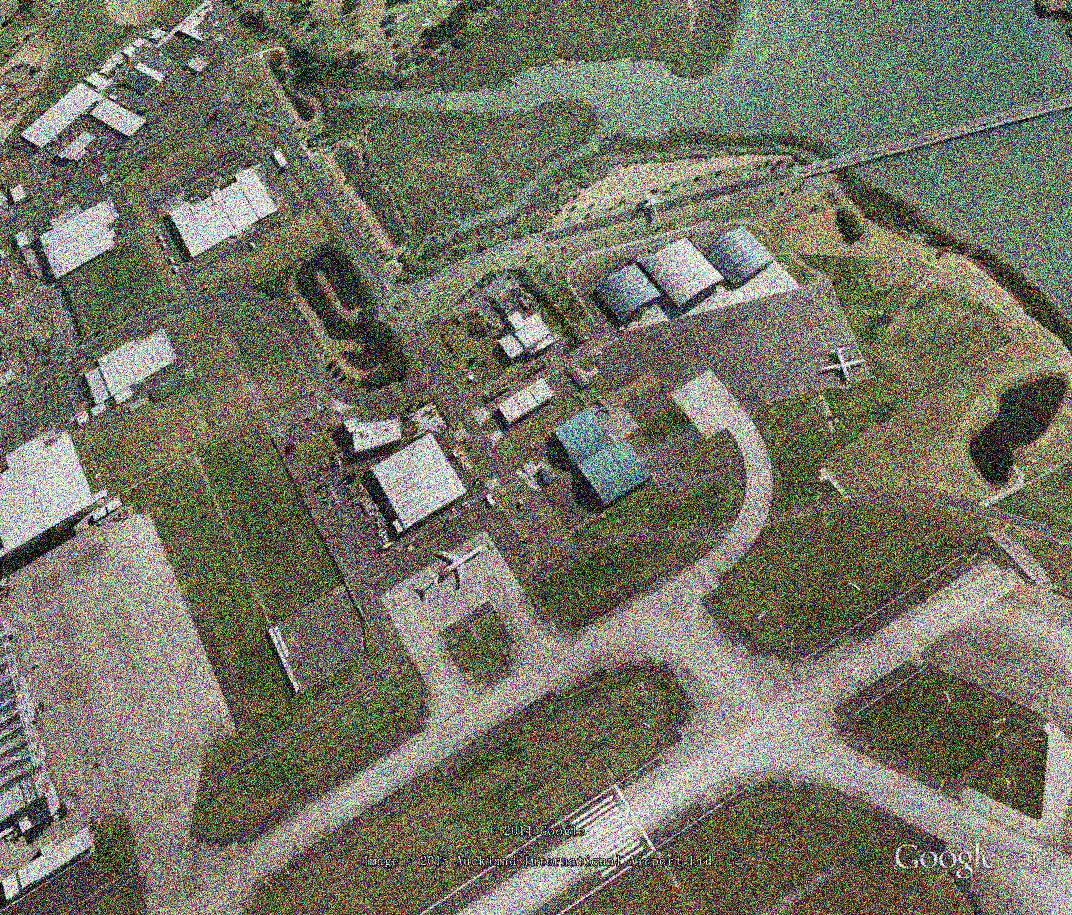aircraft: (425, 544, 491, 598), (816, 343, 864, 385), (637, 189, 667, 219)
